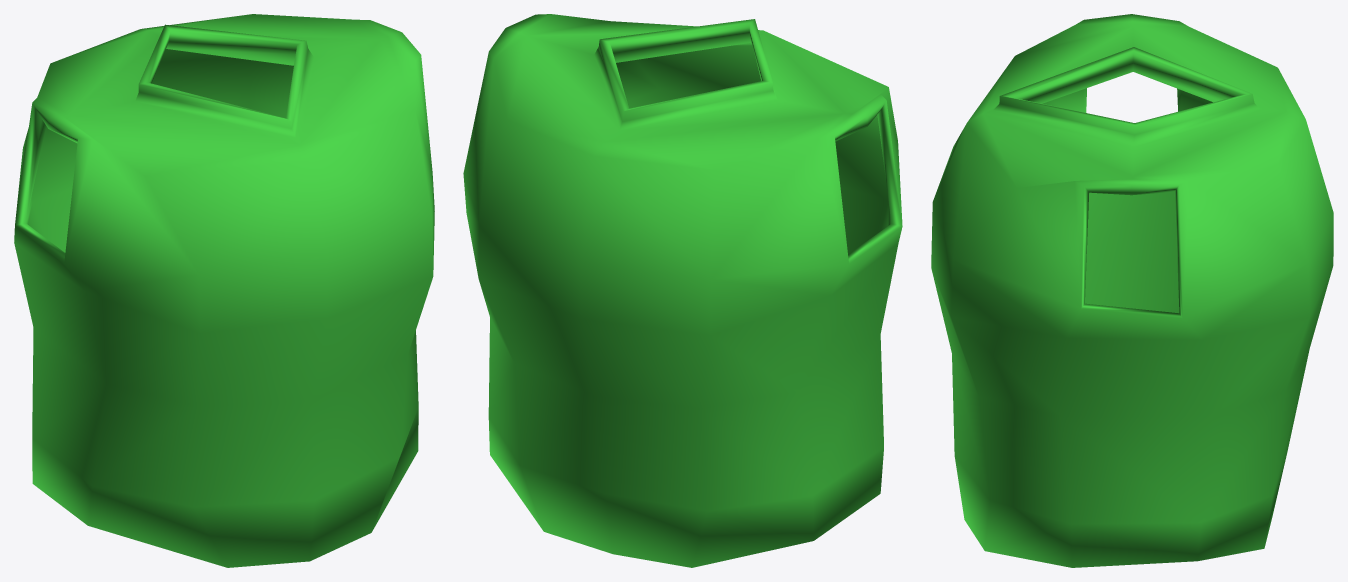
Rendered from armor1.fbx.
The picture shows the model from 3 angles, left to right: view 1: azimuth 30°, elevation 25°; view 2: azimuth 150°, elevation 25°; view 3: azimuth 270°, elevation 25°; orthographic projection. The views are drawn at different scales.
Parts seen in each view (by area): view 1: body; view 2: body; view 3: body.
Boxes of the visible parts, x1,y1,x2,y2 form: body: (14,14,434,567); body: (463,14,902,567); body: (931,14,1333,567).
Bounding box in the file's own units: 62.05 × 68.54 × 57.7.
